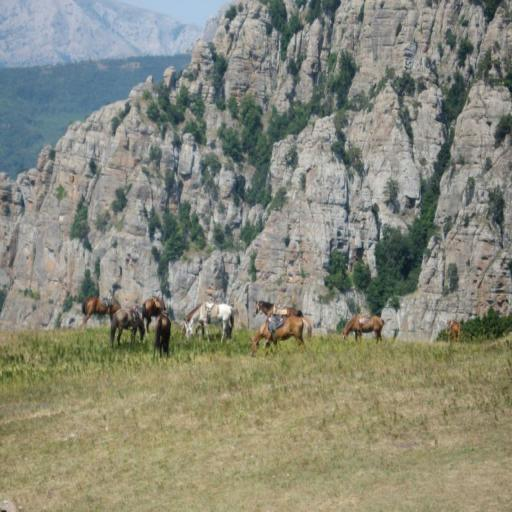horse: (247, 312, 313, 356), (184, 298, 235, 342), (179, 302, 236, 340), (108, 306, 146, 348), (340, 310, 386, 344), (78, 295, 122, 326), (250, 297, 304, 319), (152, 308, 172, 358), (139, 292, 164, 330), (444, 314, 462, 340)
